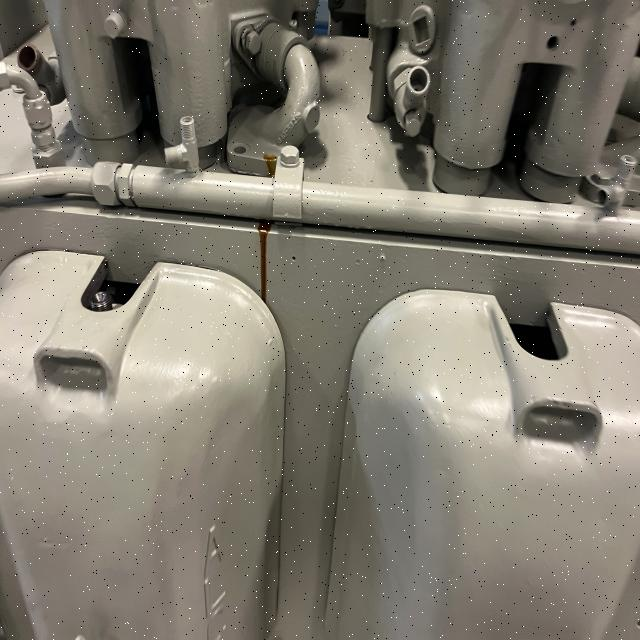Oil Leak: (258, 221, 272, 304), (263, 154, 277, 178)
